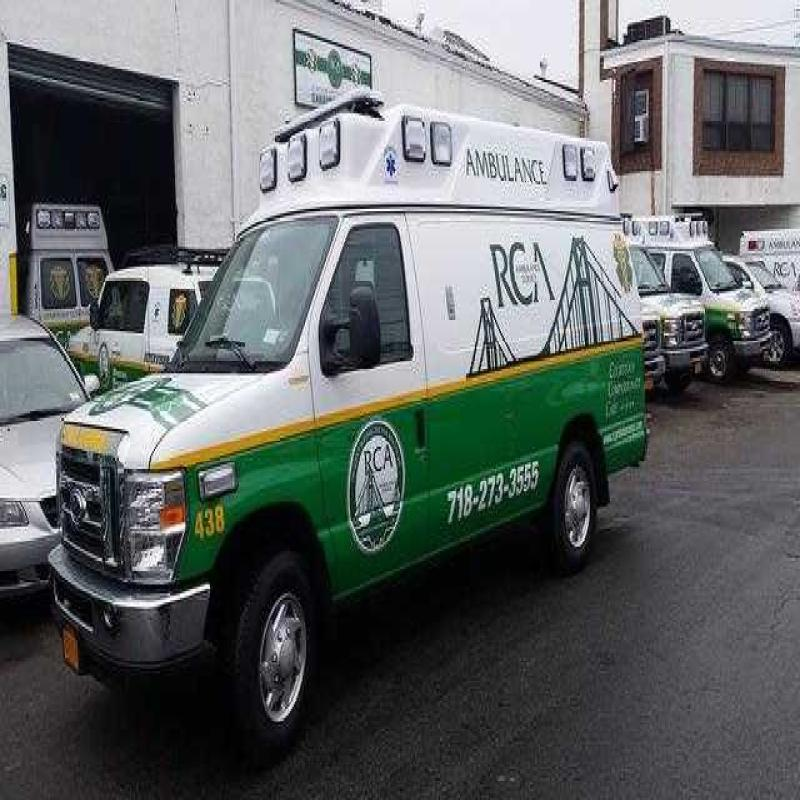AmbulanceSiren: (257, 113, 347, 184)
